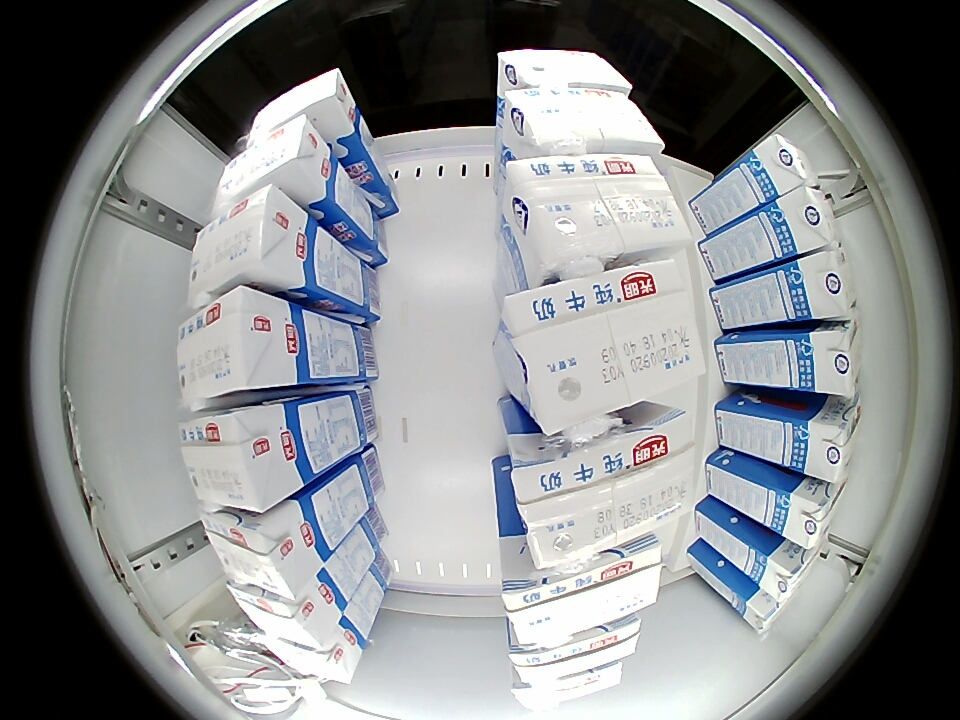niunai: (506, 257, 708, 438), (506, 417, 694, 566), (505, 152, 690, 280), (503, 546, 662, 644), (176, 285, 299, 407), (188, 184, 310, 303), (179, 403, 304, 513), (499, 86, 664, 159), (200, 501, 315, 601), (215, 114, 330, 213), (509, 617, 642, 682), (249, 68, 357, 148), (228, 578, 333, 653), (496, 48, 632, 99), (798, 393, 863, 483), (266, 626, 363, 684), (511, 660, 622, 710), (780, 470, 849, 550), (794, 246, 857, 320), (802, 319, 862, 395), (776, 186, 841, 256), (757, 536, 825, 601), (751, 134, 820, 197), (740, 582, 797, 635)
